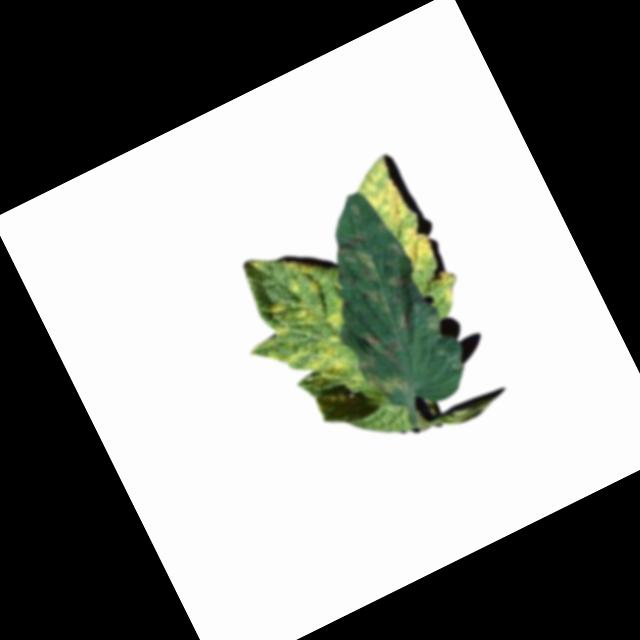Leaf_Mold: (211, 223, 390, 424), (292, 197, 447, 405), (348, 149, 466, 318)
